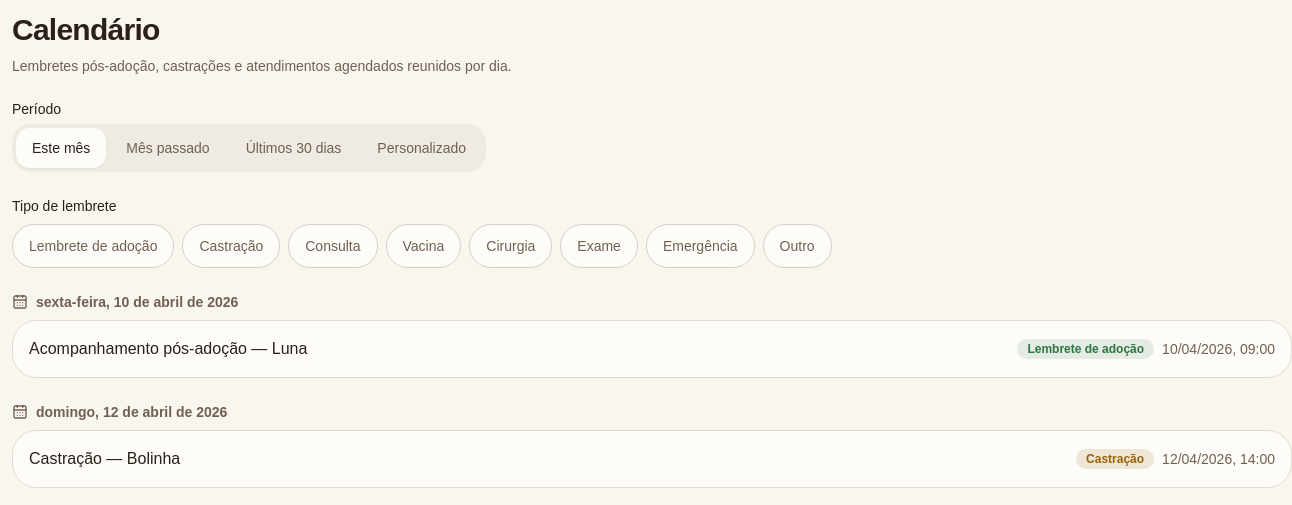
Test case: CalendarPage › mostra os campos de data ao escolher período personalizado
Click the button "Personalizado" at (422, 148), box [361,128,482,168]
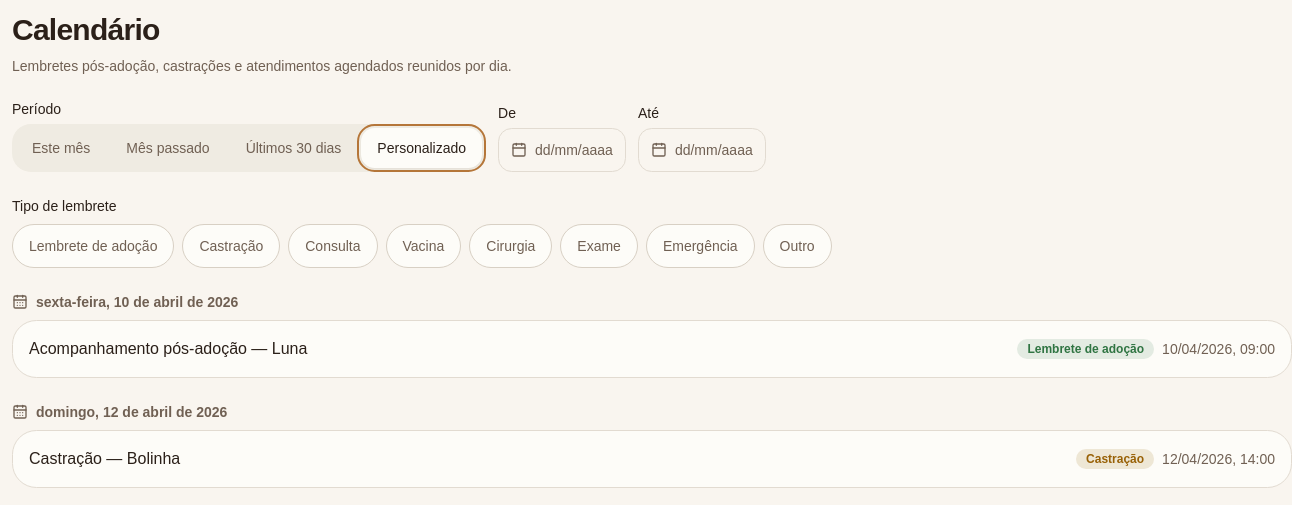
Check: the button named "De" is shown, box [498,128,626,172]
Check: the button named "Até" is shown, box [638,128,766,172]
